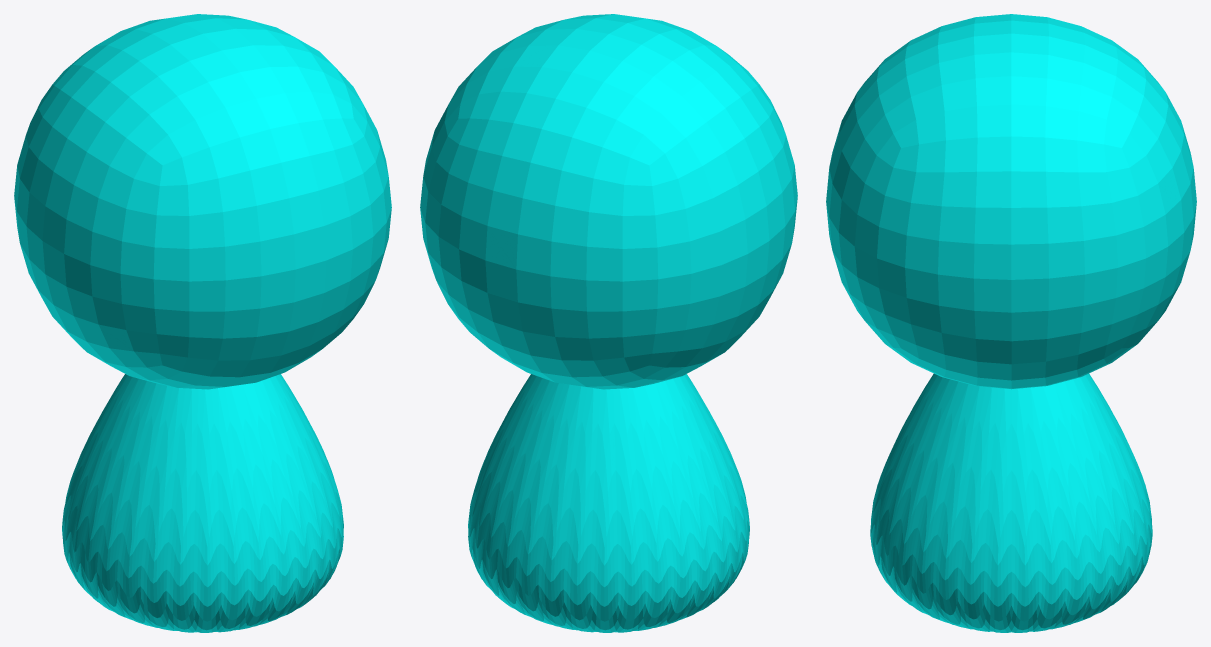
Rendered from Target Sky.fbx.
The picture shows the model from 3 angles, left to right: view 1: azimuth 30°, elevation 25°; view 2: azimuth 150°, elevation 25°; view 3: azimuth 270°, elevation 25°; orthographic projection.
Visible parts, largest first — view 1: Cube; view 2: Cube; view 3: Cube.
Part boxes in pixels (x1,y1,x2,y2): Cube: [14, 14, 391, 632]; Cube: [420, 14, 797, 632]; Cube: [826, 14, 1196, 632].
Bounding box in the file's own units: 168 × 292 × 168.
Materials: 1 (1 with a texture image).
